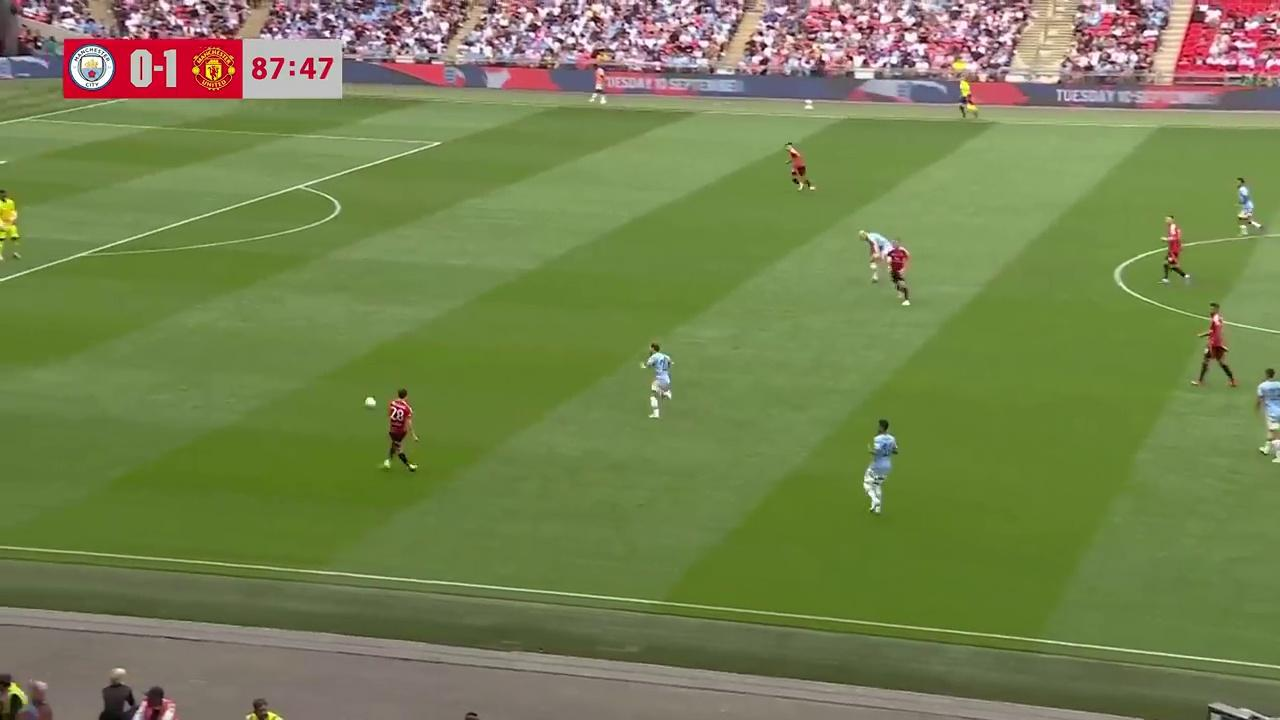ball: (363, 392, 377, 410)
player: (1191, 303, 1237, 388), (862, 418, 899, 513), (379, 388, 419, 473), (639, 342, 674, 418), (1255, 367, 1280, 459), (1160, 216, 1191, 285), (858, 228, 895, 284), (1234, 177, 1262, 236), (886, 239, 910, 305), (0, 189, 21, 261), (786, 143, 816, 192)
referee: (956, 77, 979, 120)
